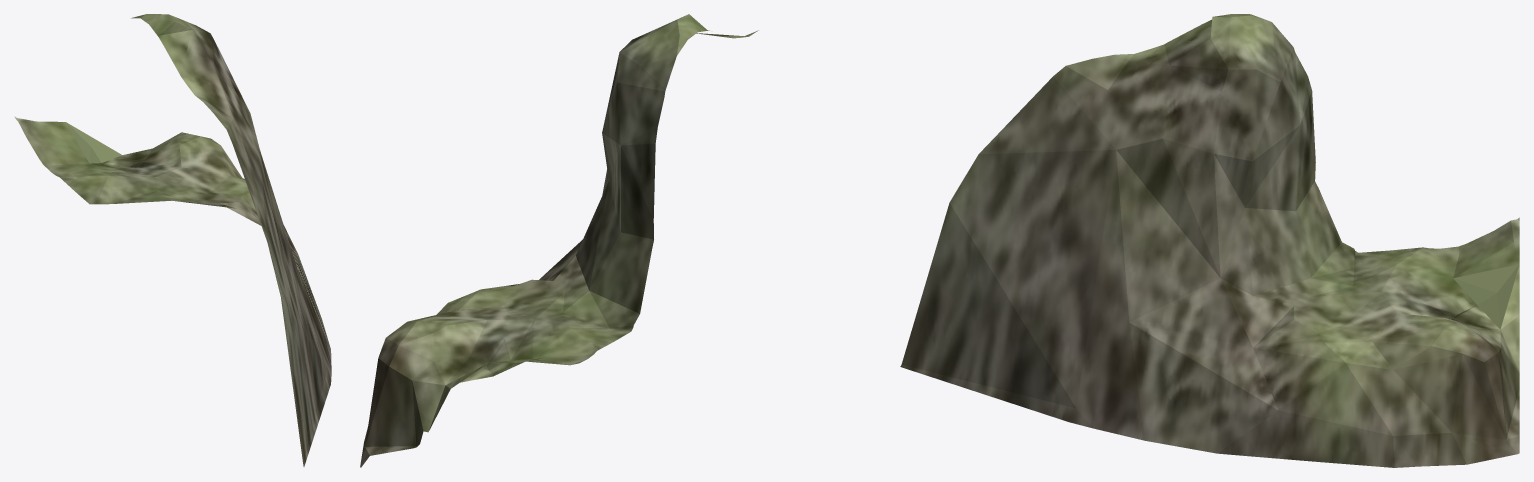
3 views of the same model, side by side, from view 1: azimuth 30°, elevation 25°; view 2: azimuth 150°, elevation 25°; view 3: azimuth 270°, elevation 25° (orthographic). The views are drawn at different scales.
Size of the model in its own units: 0.9065 by 1.5 by 2.35.
1 material, 1 textured.
